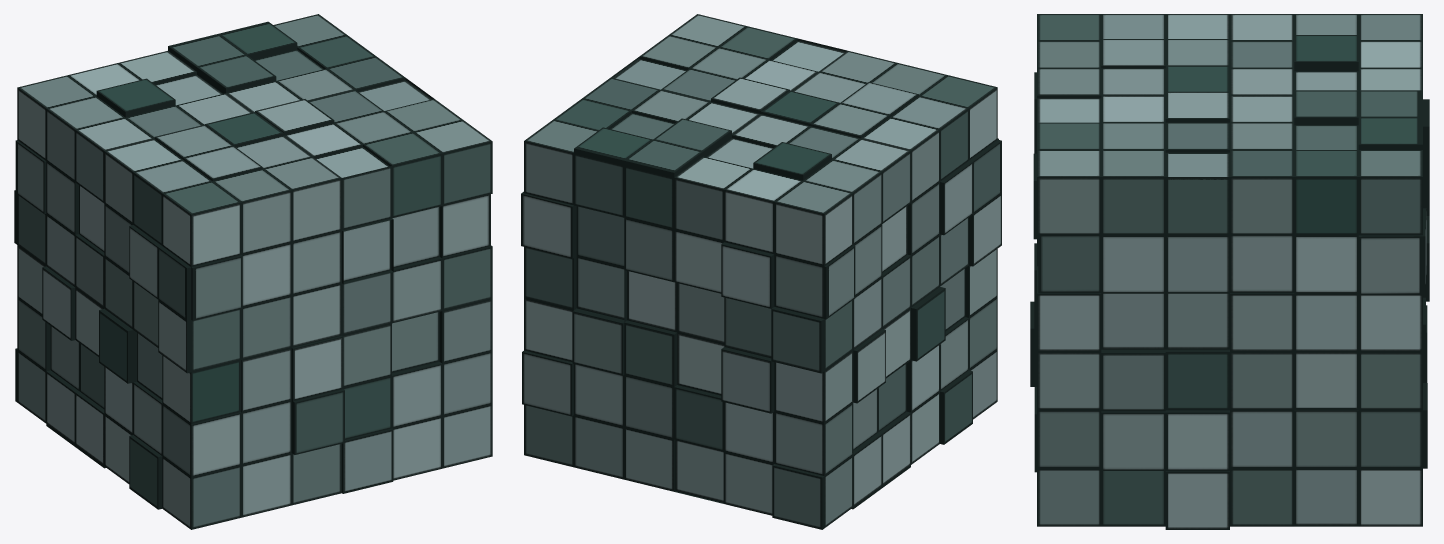
File: m_bricks.glb
The picture shows the model from 3 angles, left to right: view 1: azimuth 30°, elevation 25°; view 2: azimuth 150°, elevation 25°; view 3: azimuth 270°, elevation 25°; orthographic projection. The views are drawn at different scales.
Parts seen in each view (by area): view 1: M_Bricks_hp; view 2: M_Bricks_hp; view 3: M_Bricks_hp.
Boxes of the visible parts, <box> form: M_Bricks_hp: <box>14,14,492,529</box>; M_Bricks_hp: <box>521,14,1001,529</box>; M_Bricks_hp: <box>1030,14,1429,529</box>.
Size of the model in its own units: 2.08 by 2.07 by 2.07.
Materials: 1 (1 with a texture image).
